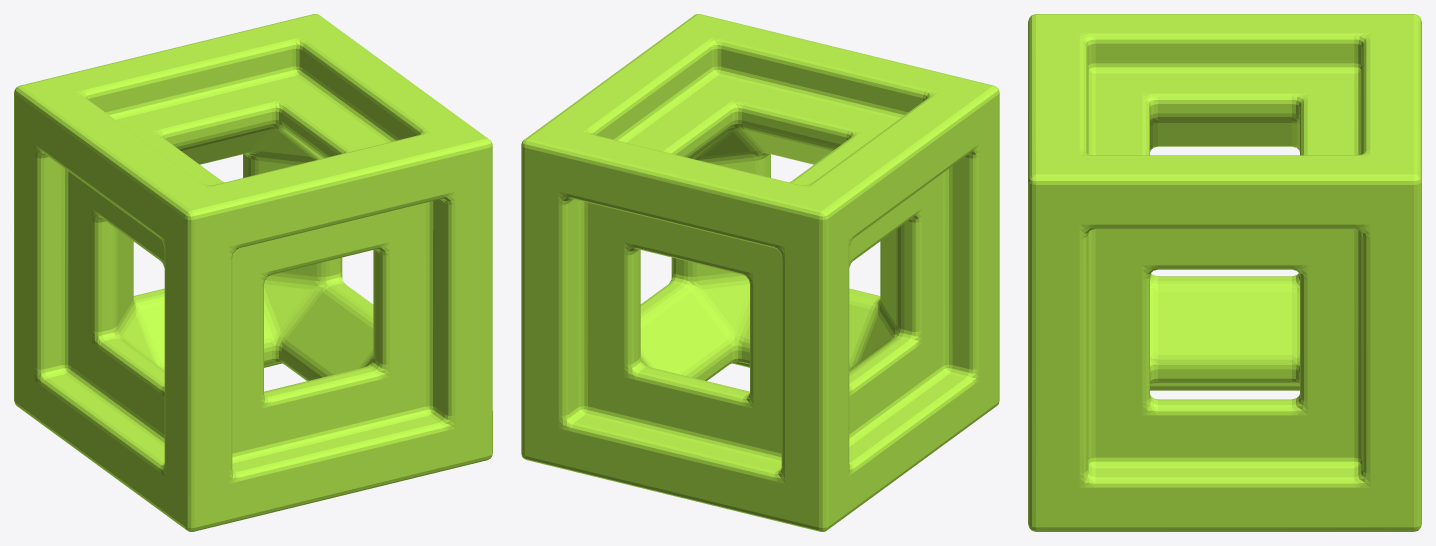
The picture shows the model from 3 angles, left to right: view 1: azimuth 30°, elevation 25°; view 2: azimuth 150°, elevation 25°; view 3: azimuth 270°, elevation 25°; orthographic projection. The views are drawn at different scales.
Visible parts, largest first — view 1: Cube; view 2: Cube; view 3: Cube.
Boxes of the visible parts, box(x1,y1,x2,y2) form: Cube: box(14, 14, 492, 531); Cube: box(521, 14, 999, 531); Cube: box(1028, 14, 1421, 531).
Size of the model in its own units: 2 by 2 by 2.
